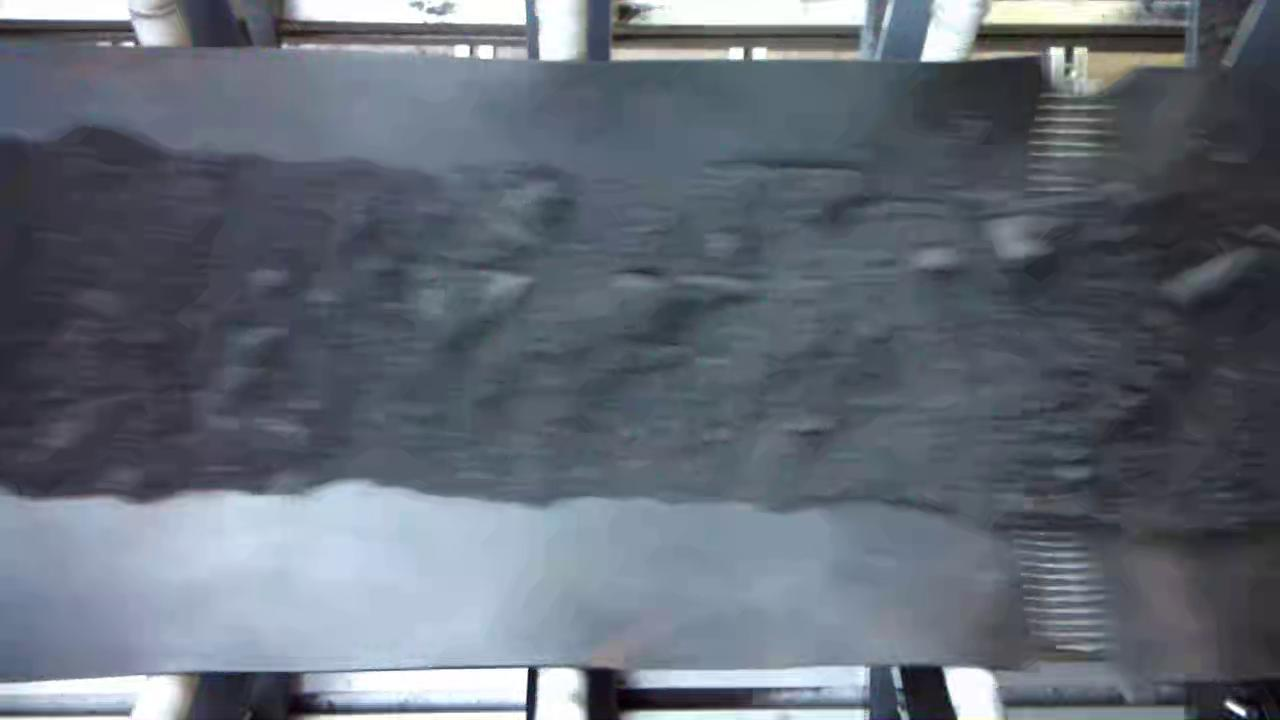conveyor: (3, 69, 1280, 665)
